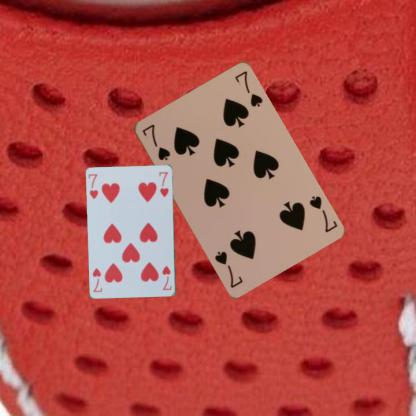7h: (160, 263, 173, 292), (86, 172, 99, 200)
7s: (139, 121, 172, 162), (306, 193, 339, 234)
